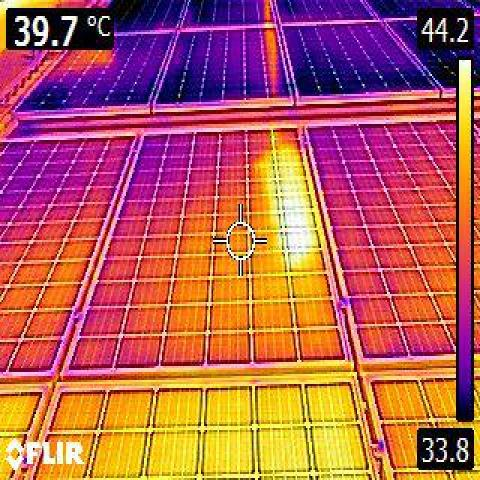fault: (271, 171, 318, 267)
